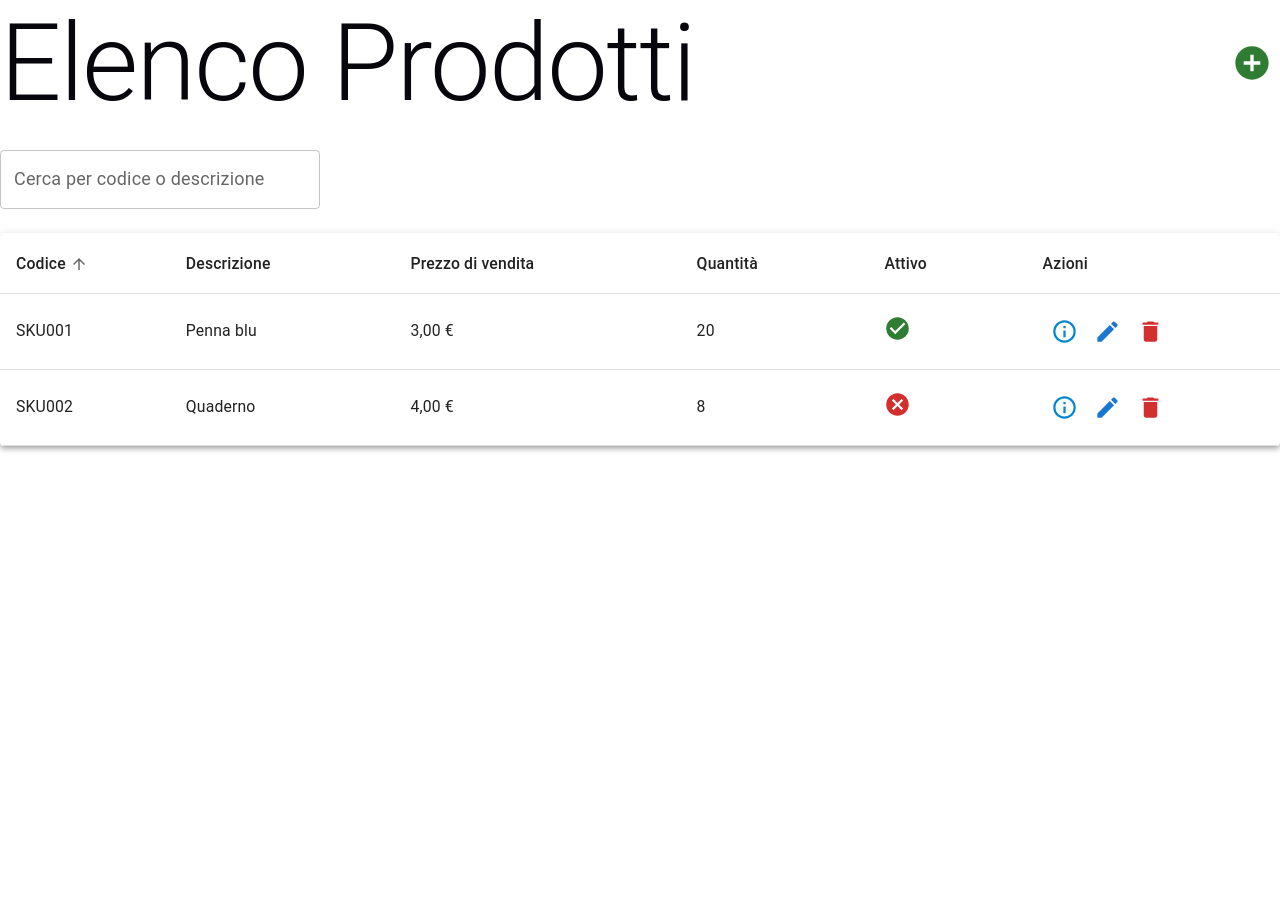
Test case: Prodotti › richiede conferma e ricarica l’elenco dopo l’eliminazione
Expected: the text "Penna blu" is shown, [186,322,257,340]
Click the button titled "Elimina" in the row of "SKU001" at (1150, 332), box [1129,310,1172,353]
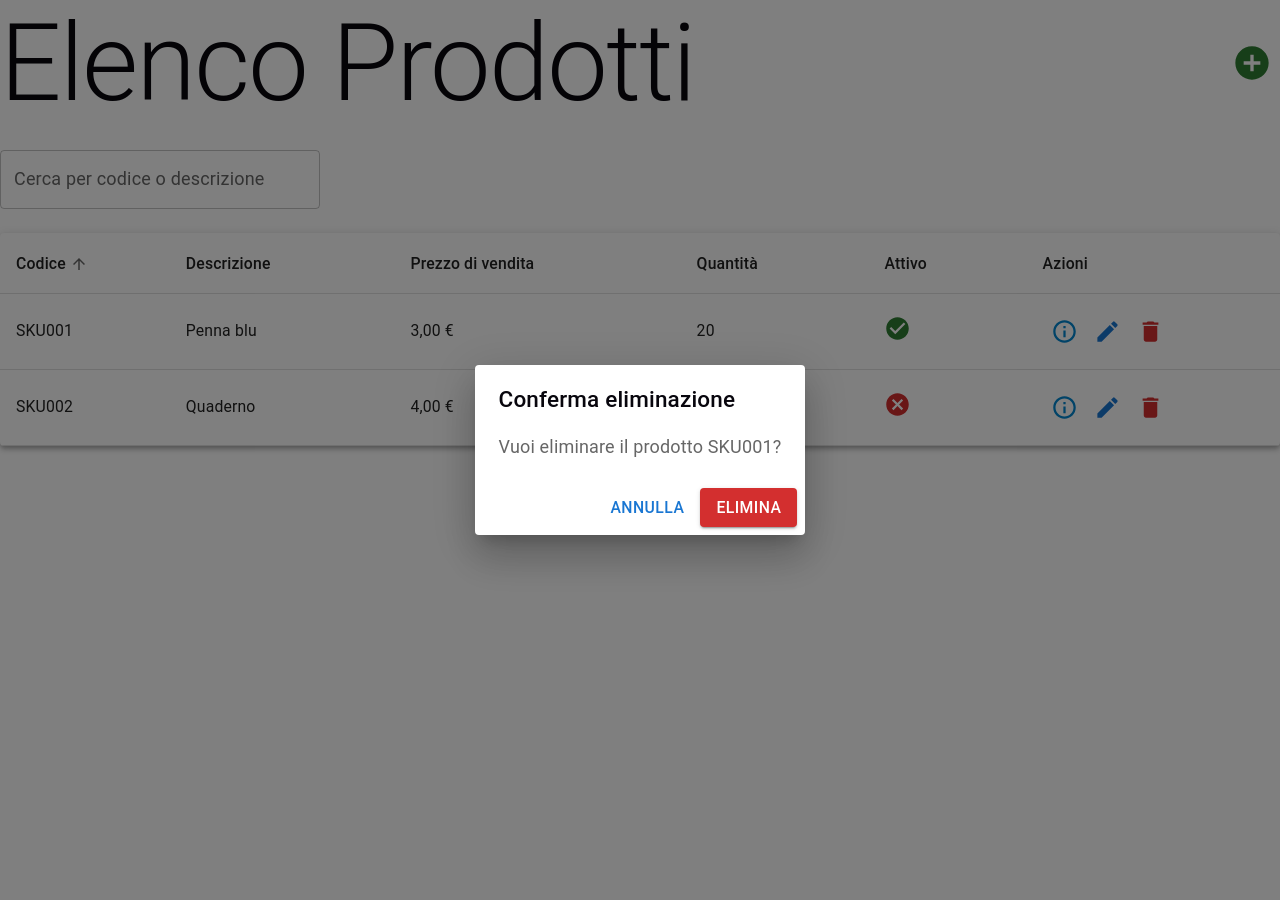
Click the button "Elimina" at (749, 508), box [700,488,798,527]
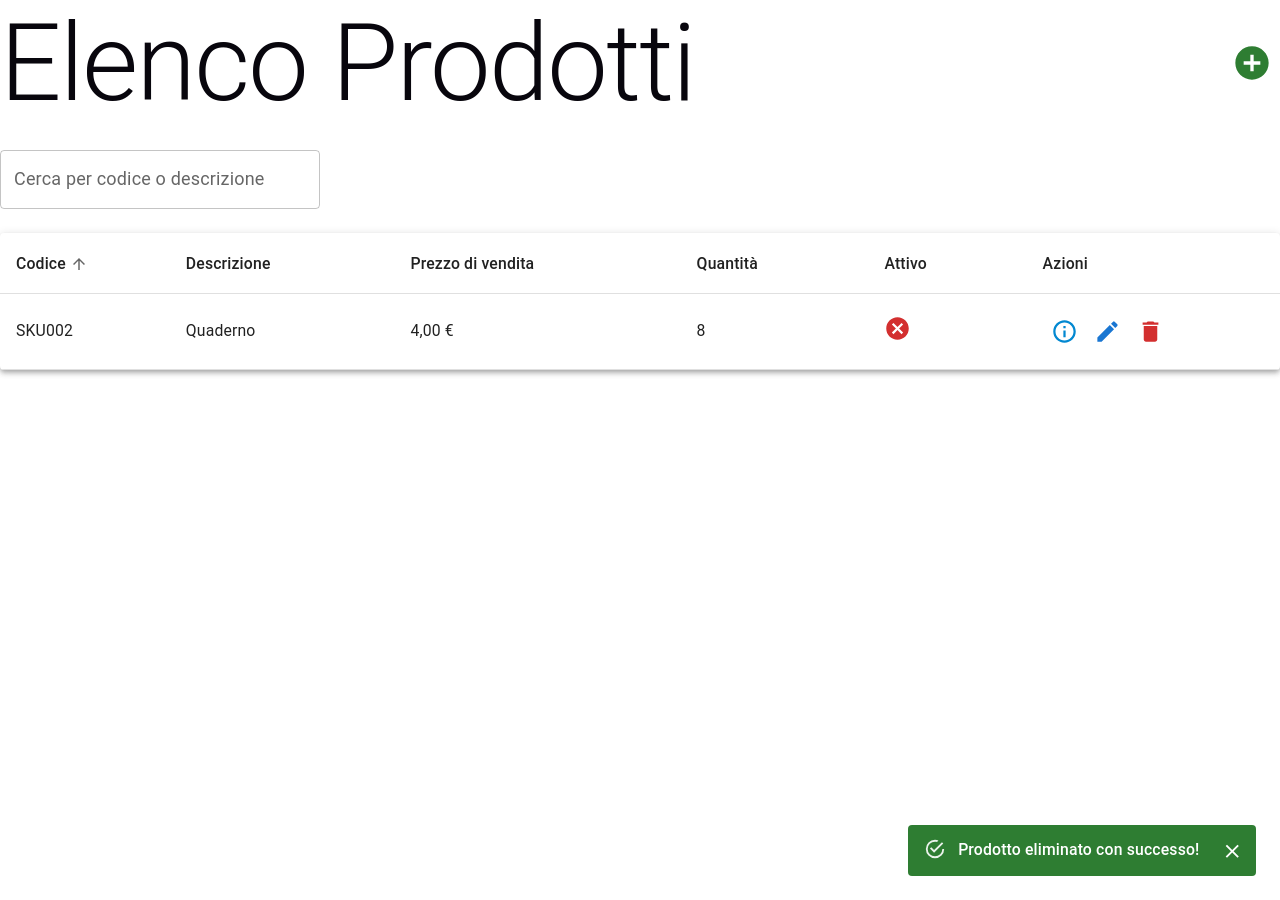
Now the text "Prodotto eliminato con successo!" is shown, box [958,840,1200,860]
